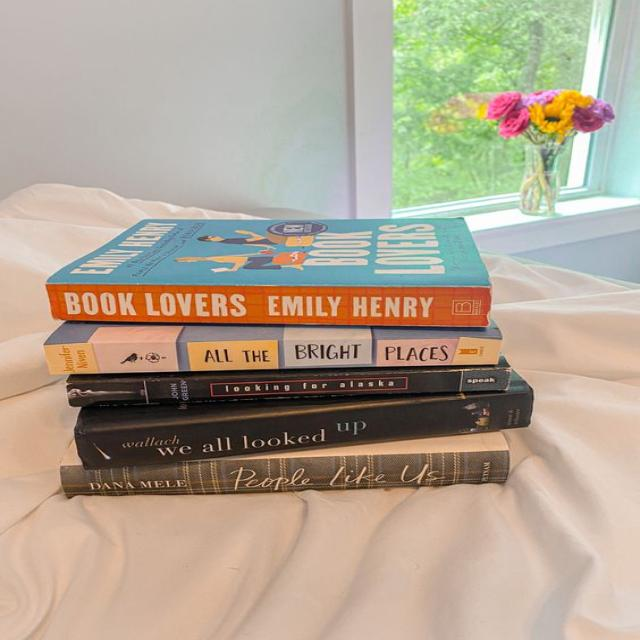book: (47, 219, 488, 327), (74, 372, 533, 469), (61, 433, 510, 496), (44, 323, 500, 374), (66, 358, 517, 406)
flowers: (475, 89, 613, 214)
